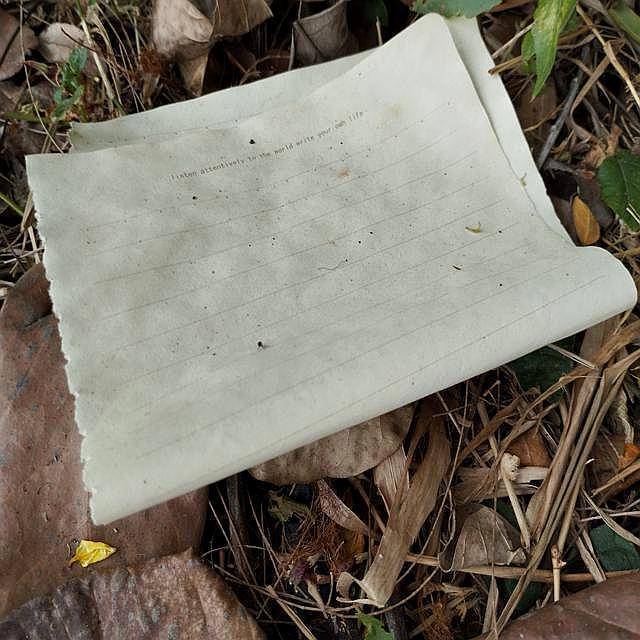Biodegradable: (18, 1, 640, 538)
